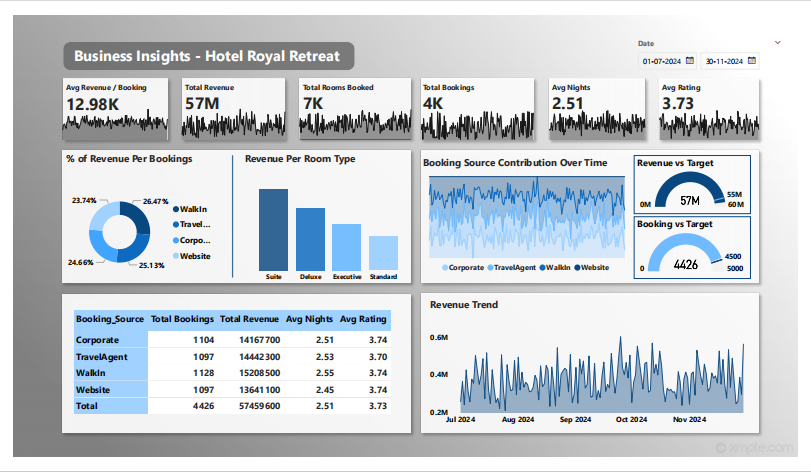

What the dashboard file says about the page in this screenshot:
{"tool":"powerbi","page":{"name":"Page 1","canvas":[1280,720],"ordinal":0},"visuals":[{"type":"shape","box":[80.6,43.2,476.6,46.1],"z":0},{"type":"shape","box":[71.8,93.5,188.2,117.1],"z":1000},{"type":"shape","box":[266.5,93.5,185.3,117.1],"z":2000},{"type":"shape","box":[656.7,93.3,200.8,117.5],"z":3000},{"type":"shape","box":[865.9,93.5,174.1,117.1],"z":4000},{"type":"shape","box":[458.3,92.5,198.3,117.5],"z":5000},{"type":"shape","box":[1046.5,93.5,178.8,117.1],"z":6000},{"type":"textbox","box":[81.1,102.5,182.5,75.4],"z":7000},{"type":"textbox","box":[275.5,102,182.5,75.8],"z":8000},{"type":"textbox","box":[467.5,101.7,134.2,75],"z":9000},{"type":"textbox","box":[664.2,101.7,121.7,75.8],"z":10000},{"type":"textbox","box":[875.1,102,182.3,75.4],"z":11000},{"type":"textbox","box":[1055.3,101.7,181.7,75.7],"z":12000},{"type":"lineChart","fields":{"Category":["Sheet1.Booking_Date"],"Y":["DateTable.Average Revenue per Booking"]},"box":[65,136.2,201.2,71.2],"z":13000},{"type":"lineChart","fields":{"Y":["Sheet1.Total Rooms Booked"],"Category":["Sheet1.Booking_Date"]},"box":[451.7,121.7,212.5,85.8],"z":14000},{"type":"lineChart","fields":{"Category":["Sheet1.Booking_Date"],"Y":["Sheet1.Average Nights"]},"box":[860,139.4,186.3,67.7],"z":15000},{"type":"lineChart","fields":{"Y":["Sheet1.Totalll Revenue"],"Category":["Sheet1.Booking_Date"]},"box":[260,114.7,197.9,92.1],"z":16000},{"type":"lineChart","fields":{"Y":["Sheet1.Total Bookings"],"Category":["Sheet1.Booking_Date"]},"box":[650.8,143.3,213.3,65],"z":17000},{"type":"lineChart","fields":{"Category":["Sheet1.Booking_Date"],"Y":["Sheet1.Average Rating"]},"box":[1040,131,191.7,76],"z":18000},{"type":"shape","box":[71.4,211.4,585.7,234.3],"z":19000},{"type":"shape","box":[71.4,445.7,585.7,245.7],"z":20000},{"type":"shape","box":[657.3,445.5,568.2,245.5],"z":21000},{"type":"shape","box":[656.4,210.9,569.1,234.5],"z":22000},{"type":"donutChart","title":"% of Revenue Per Bookings","fields":{"Y":["Sheet1.Totalll Revenue"],"Category":["Sheet1.Booking_Source"]},"box":[81.7,221.7,257.5,242.5],"z":23000},{"type":"columnChart","title":"Revenue Per Room Type","fields":{"Category":["Sheet1.Room_Type"],"Y":["Sheet1.Totalll Revenue"]},"box":[373.3,221.7,285,223.3],"z":24000},{"type":"pivotTable","fields":{"Rows":["Sheet1.Booking_Source"],"Values":["Sheet1.Total Bookings","Sheet1.Totalll Revenue","Sheet1.Average Nights","Sheet1.Average Rating"]},"box":[93.3,475.8,558.3,215],"z":25000},{"type":"lineChart","title":"Revenue Trend","fields":{"Category":["Sheet1.Booking_Date"],"Y":["Sheet1.Totalll Revenue"]},"box":[676.2,460,548.8,217.5],"z":26000},{"type":"gauge","title":"Revenue vs Target","fields":{"Y":["Sheet1.Totalll Revenue"]},"box":[1012.5,227.5,191.2,96.2],"z":27000},{"type":"gauge","title":"Booking vs Target","fields":{"Y":["CountNonNull(Sheet1.Booking_ID)"]},"box":[1012.5,327.5,191.2,102.5],"z":28000},{"type":"slicer","fields":{"Values":["DateTable.Date"]},"box":[1006.6,31.7,259.2,69.1],"z":29000},{"type":"textbox","box":[93.6,43.2,463.7,46.1],"z":30000},{"type":"hundredPercentStackedAreaChart","title":"Booking Source Contribution Over Time","fields":{"Category":["Sheet1.Booking_Date"],"Series":["Sheet1.Booking_Source"],"Y":["Sheet1.Total Bookings"]},"box":[663.8,227.5,348.8,202.5],"z":31000},{"type":"shape","box":[218.3,228.3,278.3,200],"z":32000}]}

Visuals, with their boxes on the page's 1280x720 design canvas (x1, y1, x2, y2). These are canvas units, not pixel positions in the 811x472 screenshot, which may show the page scaled, cropped or inside an application window:
shape: bbox=[81, 43, 557, 89]
shape: bbox=[72, 94, 260, 211]
shape: bbox=[266, 94, 452, 211]
shape: bbox=[657, 93, 858, 211]
shape: bbox=[866, 94, 1040, 211]
shape: bbox=[458, 92, 657, 210]
shape: bbox=[1046, 94, 1225, 211]
textbox: bbox=[81, 102, 264, 178]
textbox: bbox=[276, 102, 458, 178]
textbox: bbox=[468, 102, 602, 177]
textbox: bbox=[664, 102, 786, 178]
textbox: bbox=[875, 102, 1057, 177]
textbox: bbox=[1055, 102, 1237, 177]
lineChart - Sheet1.Booking_Date x DateTable.Average Revenue per Booking: bbox=[65, 136, 266, 207]
lineChart - Sheet1.Total Rooms Booked x Sheet1.Booking_Date: bbox=[452, 122, 664, 208]
lineChart - Sheet1.Booking_Date x Sheet1.Average Nights: bbox=[860, 139, 1046, 207]
lineChart - Sheet1.Totalll Revenue x Sheet1.Booking_Date: bbox=[260, 115, 458, 207]
lineChart - Sheet1.Total Bookings x Sheet1.Booking_Date: bbox=[651, 143, 864, 208]
lineChart - Sheet1.Booking_Date x Sheet1.Average Rating: bbox=[1040, 131, 1232, 207]
shape: bbox=[71, 211, 657, 446]
shape: bbox=[71, 446, 657, 691]
shape: bbox=[657, 446, 1226, 691]
shape: bbox=[656, 211, 1226, 445]
"% of Revenue Per Bookings" donutChart: bbox=[82, 222, 339, 464]
"Revenue Per Room Type" columnChart: bbox=[373, 222, 658, 445]
pivotTable - Sheet1.Booking_Source x Sheet1.Total Bookings: bbox=[93, 476, 652, 691]
"Revenue Trend" lineChart: bbox=[676, 460, 1225, 678]
"Revenue vs Target" gauge: bbox=[1012, 228, 1204, 324]
"Booking vs Target" gauge: bbox=[1012, 328, 1204, 430]
slicer - DateTable.Date: bbox=[1007, 32, 1266, 101]
textbox: bbox=[94, 43, 557, 89]
"Booking Source Contribution Over Time" hundredPercentStackedAreaChart: bbox=[664, 228, 1013, 430]
shape: bbox=[218, 228, 497, 428]
